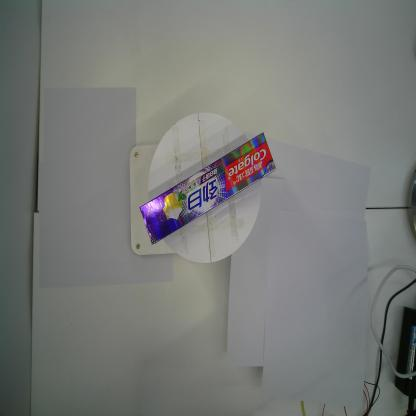Personal Hygiene: (139, 130, 277, 246)
